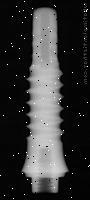DENTSPLY: (21, 6, 69, 192)
